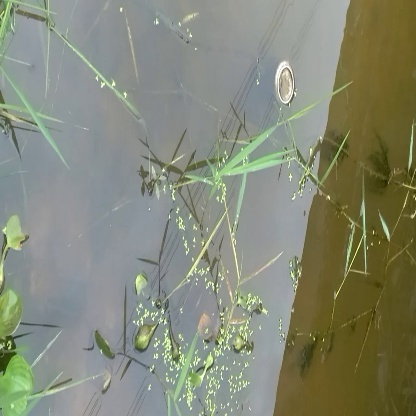bottle: (268, 56, 309, 111)
